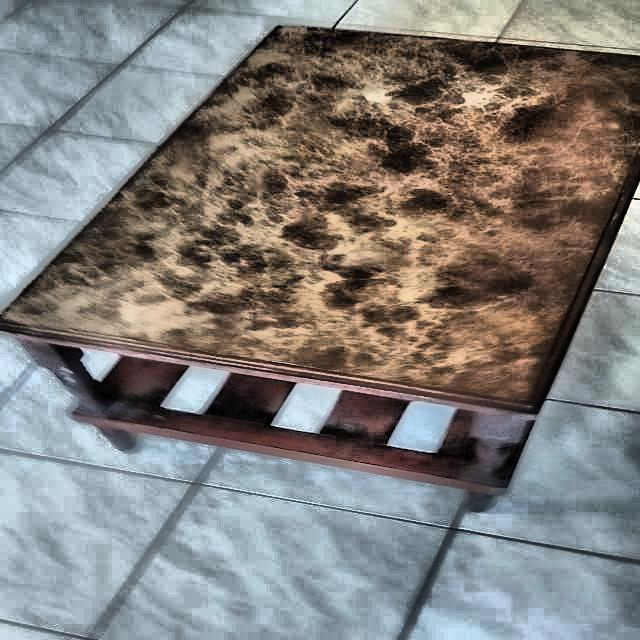mesa: (0, 22, 640, 516)
